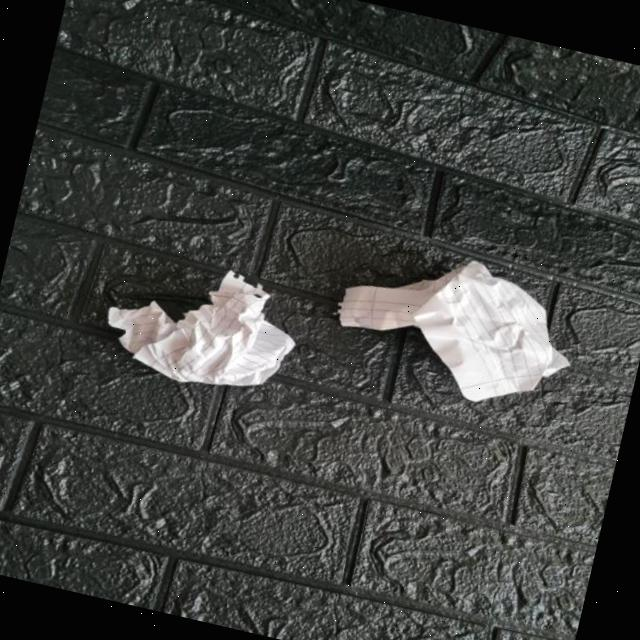trash: (326, 240, 594, 410), (96, 248, 309, 404)
